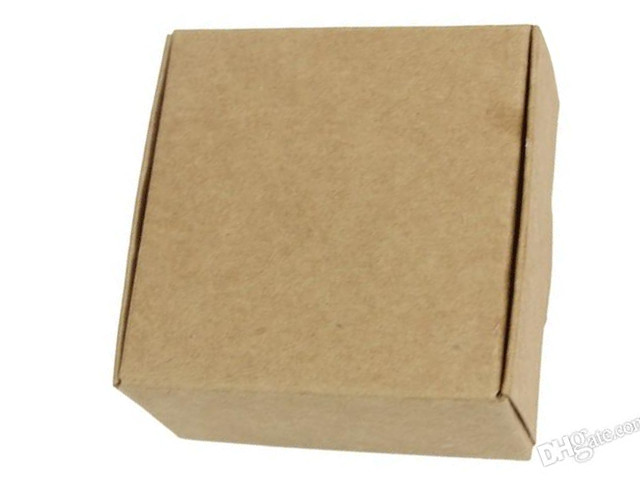cardboard: (113, 24, 558, 459)
